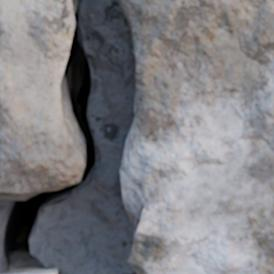brick: (118, 0, 273, 273), (0, 0, 84, 199), (3, 269, 57, 273)
crack: (0, 2, 98, 271)
